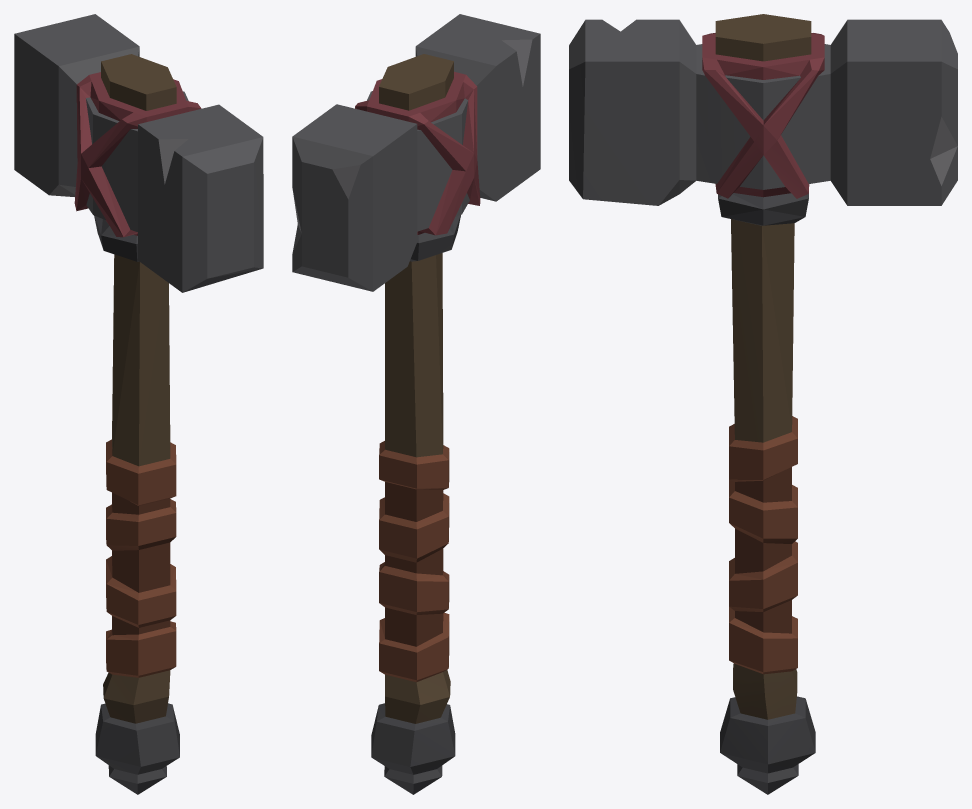
The model's file is Martillo.glb.
3 views of the same model, side by side, from view 1: azimuth 30°, elevation 25°; view 2: azimuth 150°, elevation 25°; view 3: azimuth 270°, elevation 25° (orthographic). The views are drawn at different scales.
Visible parts, largest first — view 1: SM_Wep_Hammer_01; view 2: SM_Wep_Hammer_01; view 3: SM_Wep_Hammer_01.
Part boxes in pixels (box(x1,y1,x2,y2)): SM_Wep_Hammer_01: box(14, 14, 263, 794); SM_Wep_Hammer_01: box(292, 14, 540, 794); SM_Wep_Hammer_01: box(569, 14, 957, 794).
Size of the model in its own units: 0.125 by 0.7461 by 0.3435.
1 material, 1 textured.
